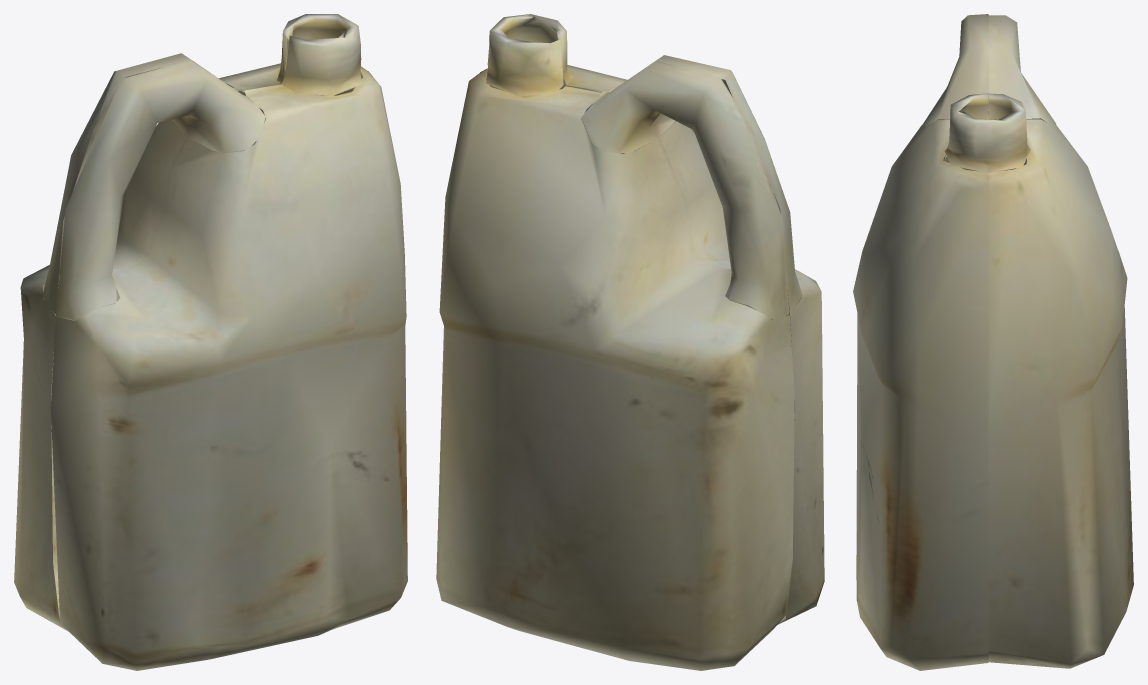
File: bottle_gallon.glb
3 views of the same model, side by side, from view 1: azimuth 30°, elevation 25°; view 2: azimuth 150°, elevation 25°; view 3: azimuth 270°, elevation 25° (orthographic).
Visible parts, largest first — view 1: bottle_gallon; view 2: bottle_gallon; view 3: bottle_gallon.
Boxes of the visible parts, x1,y1,x2,y2 form: bottle_gallon: [14, 14, 407, 670]; bottle_gallon: [436, 14, 824, 670]; bottle_gallon: [853, 14, 1133, 670].
Bounding box in the file's own units: 0.1831 × 0.3 × 0.1391.
1 material, 1 textured.
